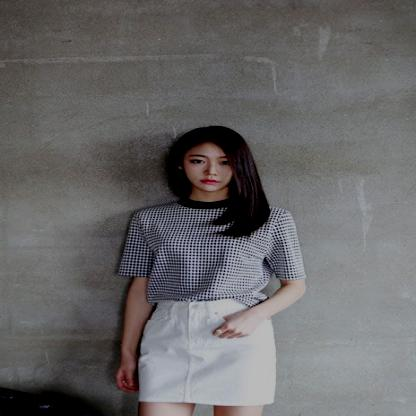dress: (121, 194, 312, 309)
jacket: (131, 294, 281, 409)
jean: (109, 123, 313, 416)
